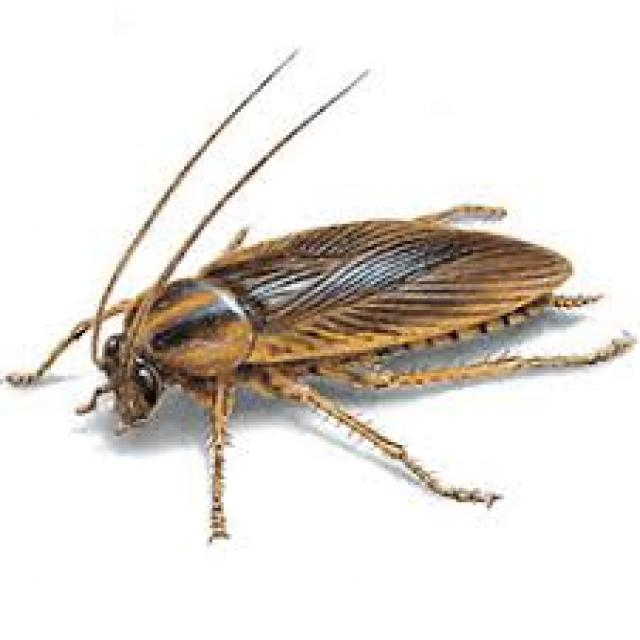Cockroach: (0, 69, 640, 548)
